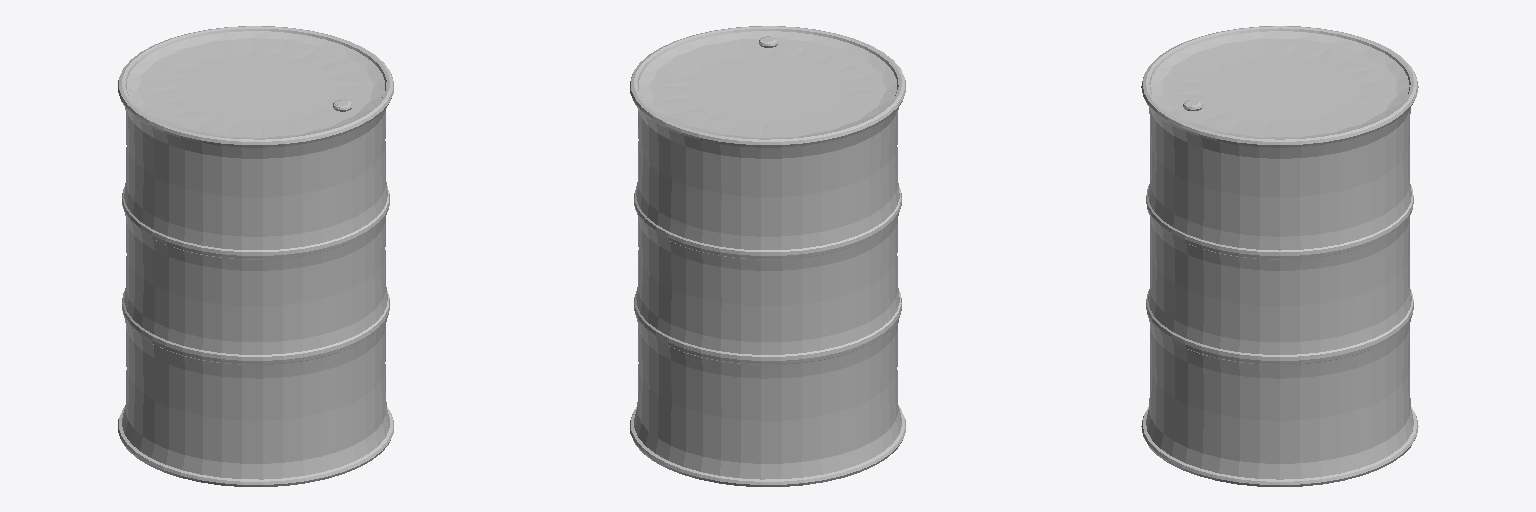
File: Can.obj
3 renders of one model, left to right at view 1: azimuth 30°, elevation 25°; view 2: azimuth 150°, elevation 25°; view 3: azimuth 270°, elevation 25°, orthographic.
Parts seen in each view (by area): view 1: polySurface1; view 2: polySurface1; view 3: polySurface1.
Boxes of the visible parts, <box> form: polySurface1: <box>118,26,393,486</box>; polySurface1: <box>630,26,905,486</box>; polySurface1: <box>1141,26,1418,486</box>.
Bounding box in the file's own units: 5.37 × 7.45 × 5.37.